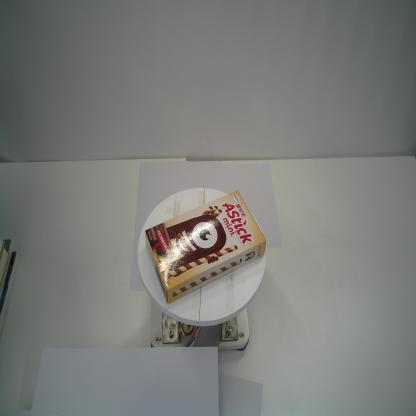Dessert: (144, 188, 268, 304)
